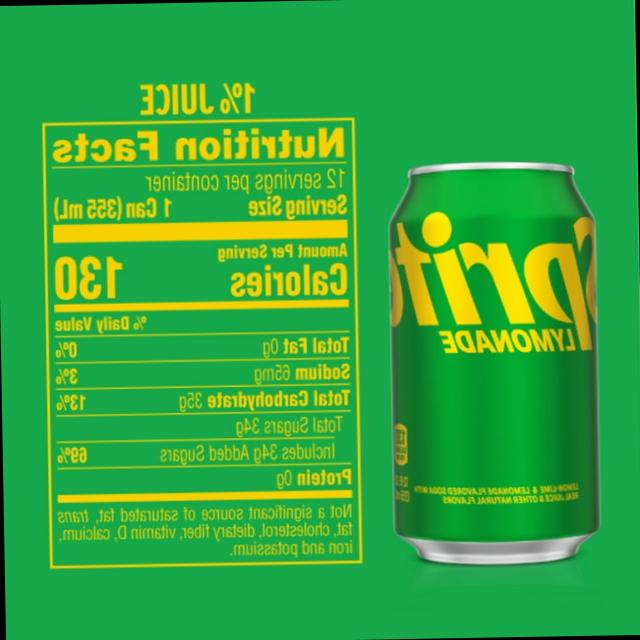sprite: (360, 141, 628, 565)
